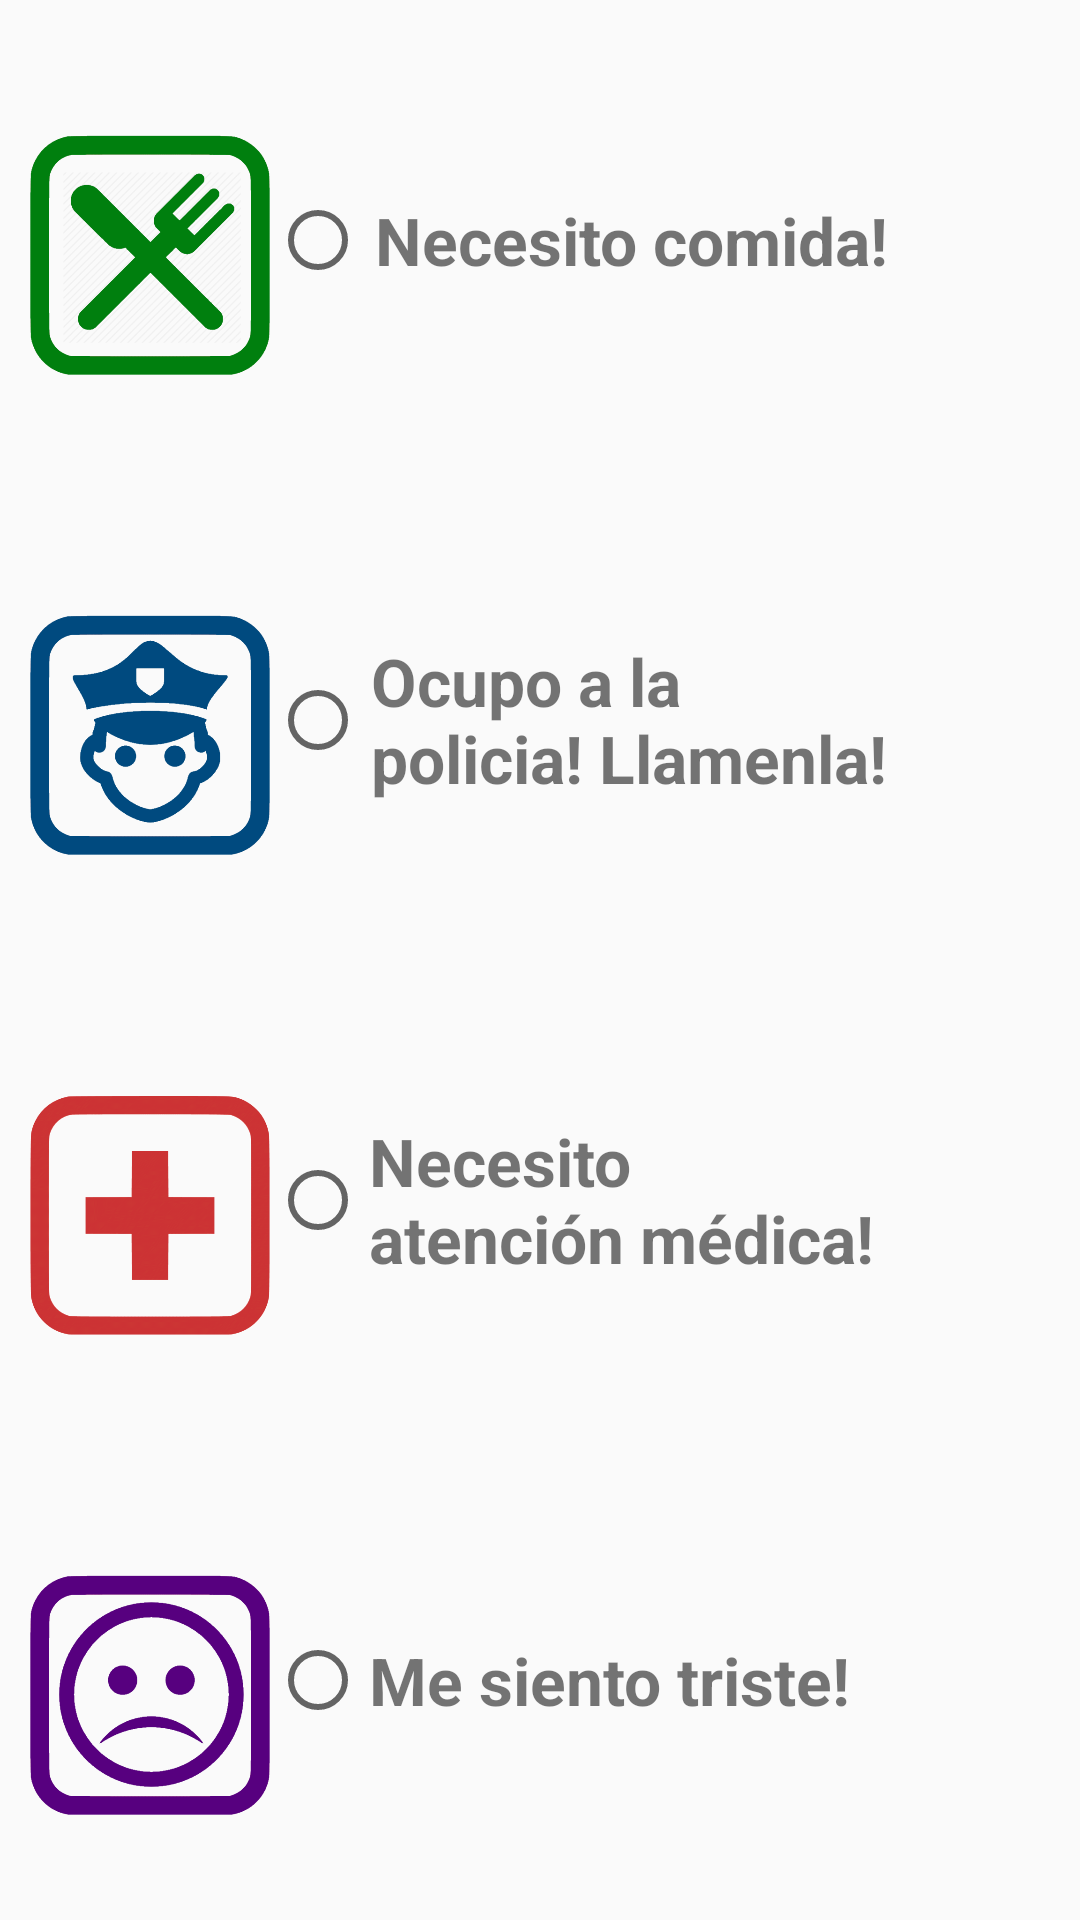

Icon bounding boxes for this 1080 × 1920 phone screenshot, format (x1, y1, x2, y2):
hospital: (30, 1096, 270, 1335)
